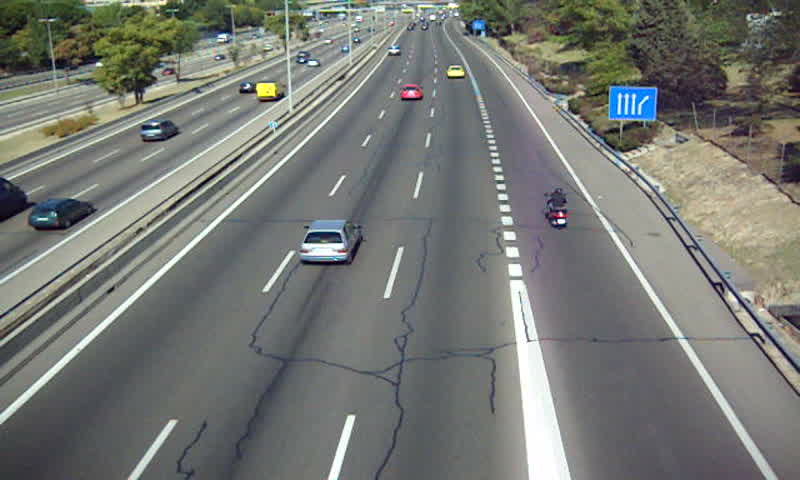car: (301, 219, 360, 263), (398, 84, 421, 102), (447, 66, 466, 78), (387, 46, 402, 57)
motorcycle: (546, 187, 570, 229)
